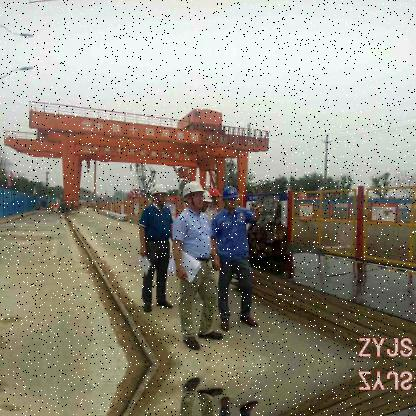Helmet: (178, 180, 206, 212), (222, 184, 242, 211), (151, 183, 170, 209), (210, 181, 224, 205), (196, 188, 212, 208)
